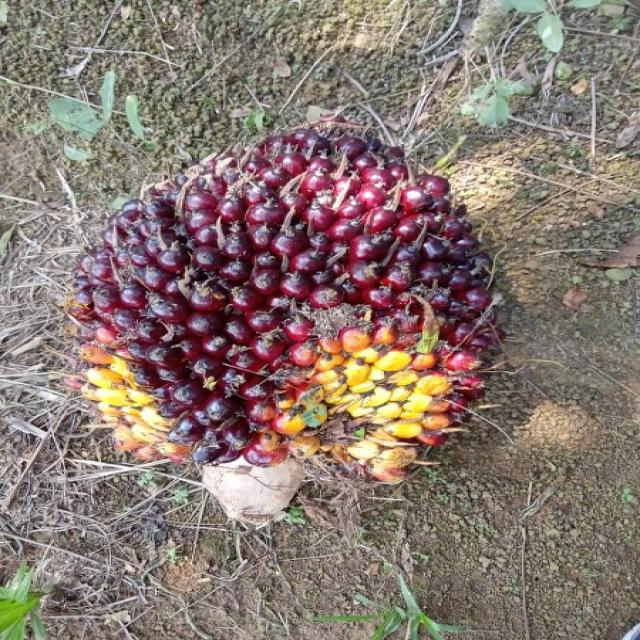fraksi 1: (57, 121, 529, 482)
